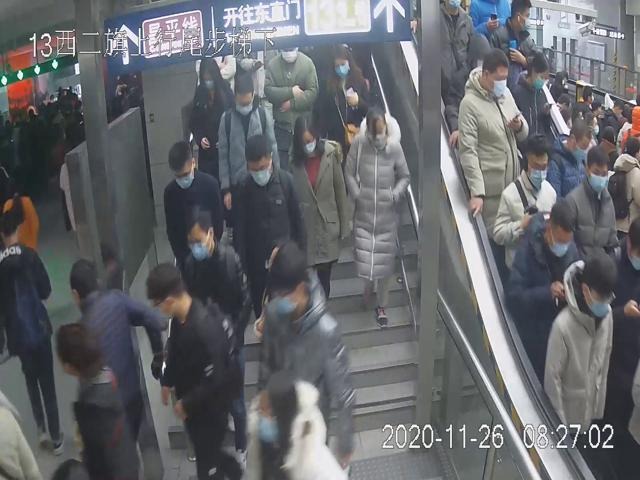person: (142, 260, 247, 480), (174, 208, 251, 423), (499, 193, 586, 379), (540, 247, 619, 447), (345, 100, 413, 328), (458, 48, 528, 254), (230, 128, 304, 308), (287, 111, 345, 308), (495, 128, 564, 273), (215, 66, 280, 212), (163, 137, 223, 263), (563, 144, 619, 259), (319, 39, 375, 151), (190, 53, 236, 187)
